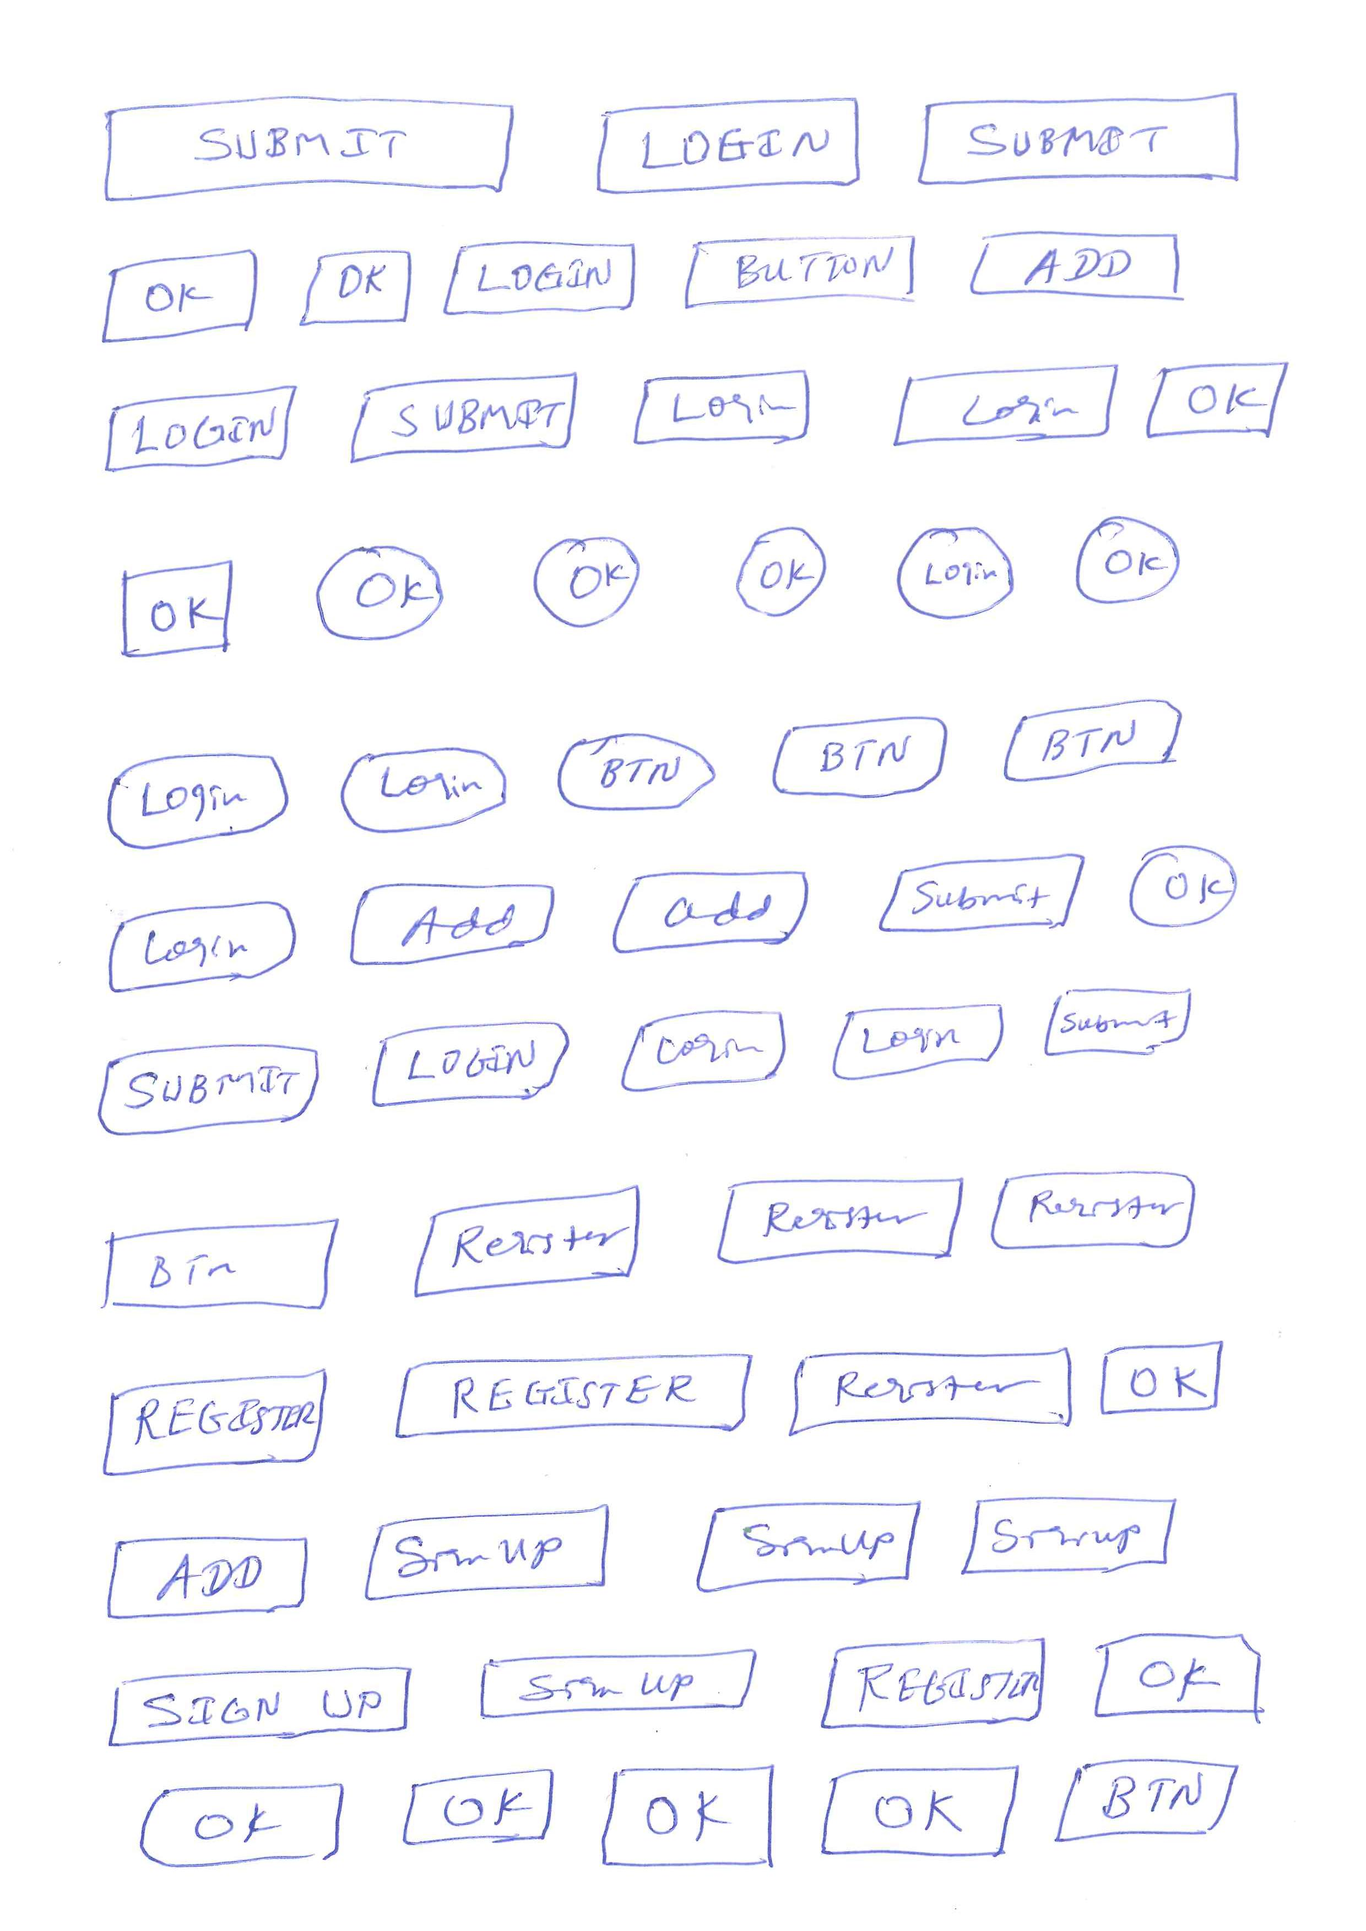Button: (103, 95, 517, 203), (393, 1351, 754, 1439), (917, 92, 1240, 186), (786, 1345, 1078, 1439), (411, 1181, 642, 1298), (594, 96, 862, 197), (364, 1502, 611, 1604), (106, 1666, 414, 1748), (102, 1368, 330, 1477), (99, 1215, 341, 1314), (716, 1175, 965, 1269), (693, 1498, 922, 1595), (819, 1635, 1047, 1731), (96, 1042, 322, 1138), (347, 371, 580, 464), (479, 1646, 758, 1721), (891, 364, 1121, 449), (597, 1762, 778, 1870), (819, 1764, 1022, 1859), (105, 750, 288, 852), (958, 1493, 1180, 1578), (136, 1782, 347, 1869), (106, 897, 296, 994), (349, 881, 556, 968), (371, 1019, 571, 1109), (105, 1533, 309, 1621), (682, 234, 917, 309), (988, 1170, 1197, 1254), (611, 869, 810, 957), (105, 383, 297, 473), (877, 853, 1087, 934), (1053, 1757, 1240, 1845), (1002, 696, 1183, 784), (441, 238, 637, 318), (1093, 1631, 1268, 1720), (769, 714, 951, 800), (339, 744, 509, 835), (101, 247, 259, 345), (968, 231, 1181, 303), (631, 368, 812, 449), (619, 1008, 788, 1093), (556, 730, 716, 815), (831, 1002, 1005, 1079), (401, 1764, 556, 1850), (313, 543, 445, 642), (1144, 359, 1292, 442), (894, 523, 1016, 622), (120, 557, 235, 659), (1042, 986, 1195, 1059), (531, 535, 643, 628), (1098, 1338, 1226, 1418), (1072, 515, 1183, 605), (1127, 843, 1240, 929), (733, 523, 829, 620), (296, 248, 412, 325)
